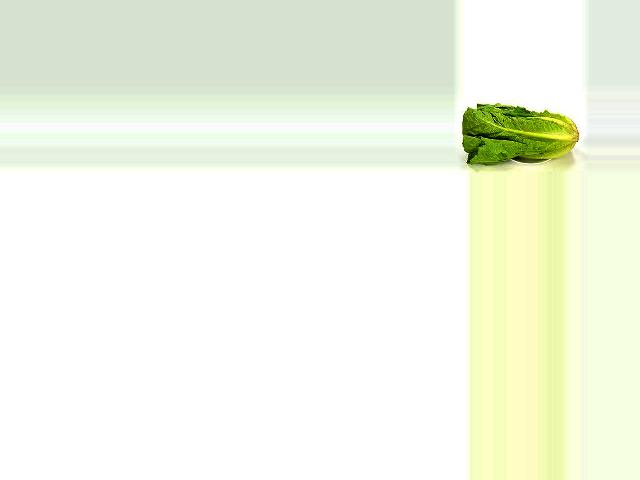lettuce: (462, 101, 580, 166)
